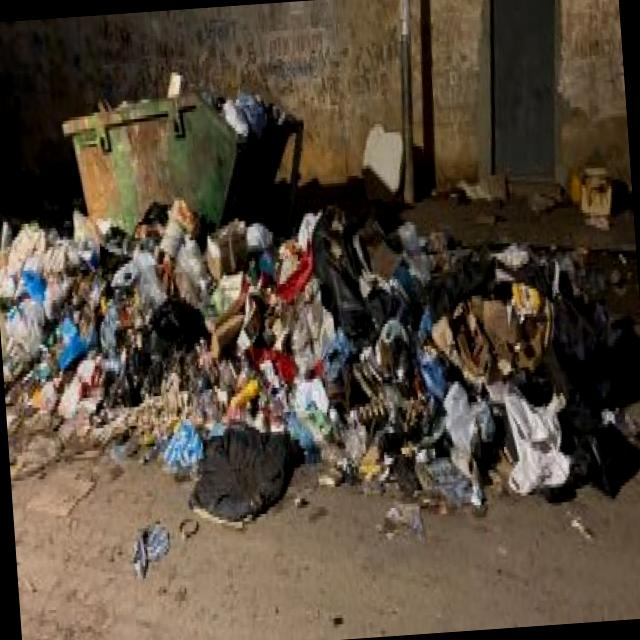garbage: (0, 112, 633, 537)
